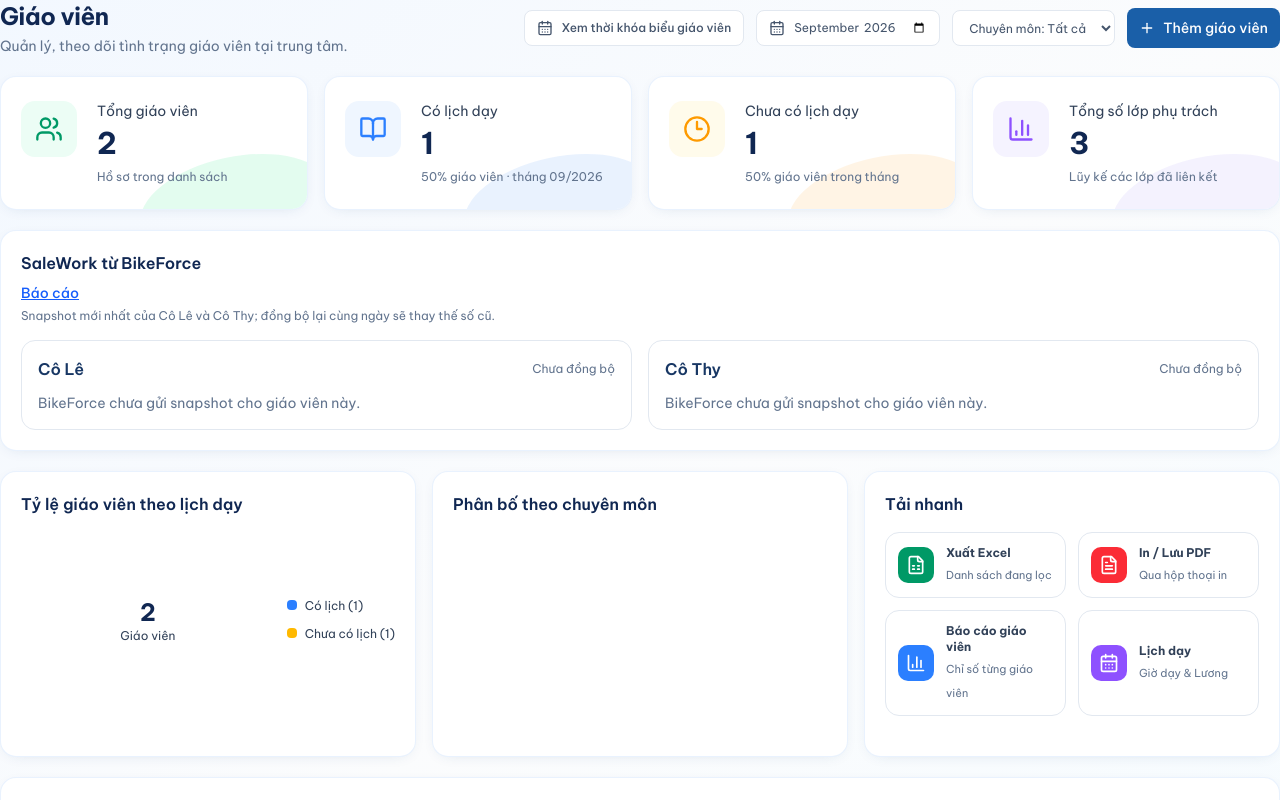
Test: B2C teacher dashboard › matches card specialization and month, and searches within the popup
This screenshot has width=1280, height=800.
Select "Tiếng Anh" in the dropdown named "Lọc chuyên môn" at (1034, 28), box [952, 10, 1115, 46]
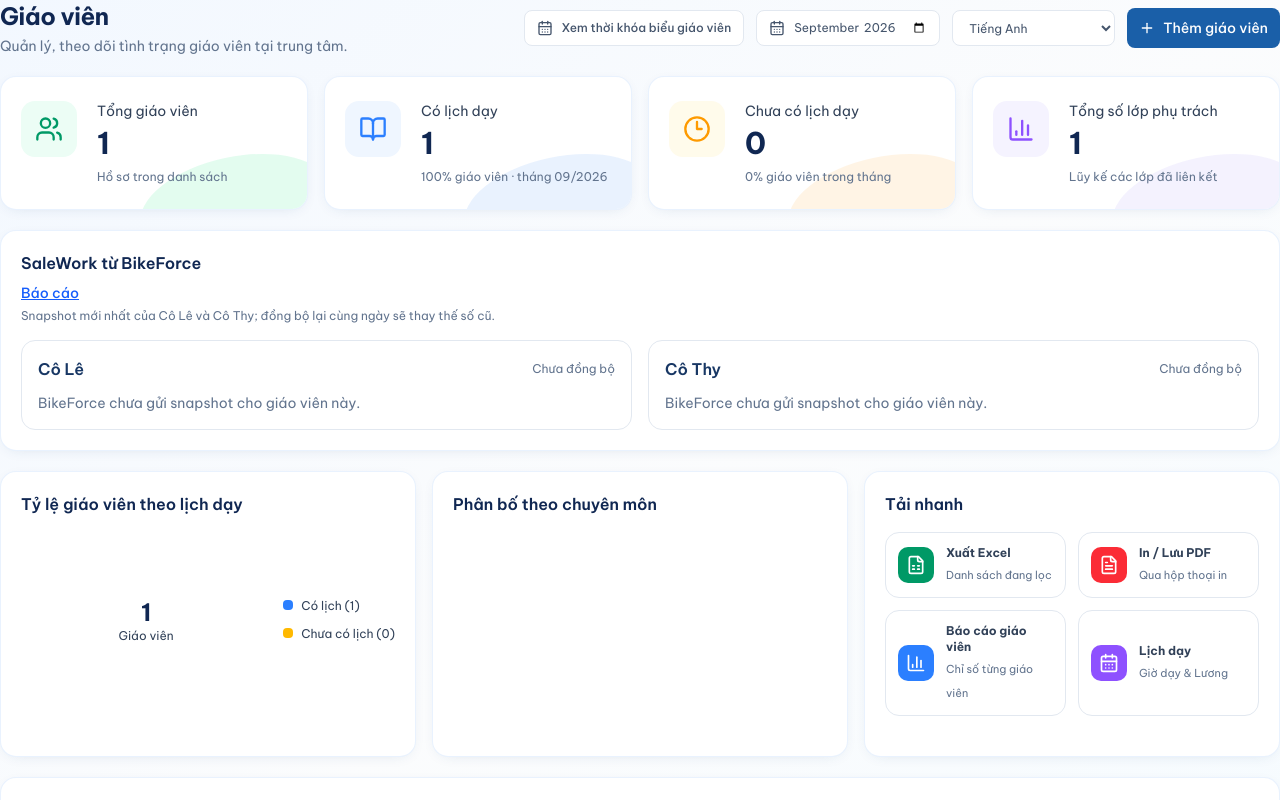
Click the button with aria-label "Xem có lịch dạy" at (478, 143), box [324, 76, 632, 210]
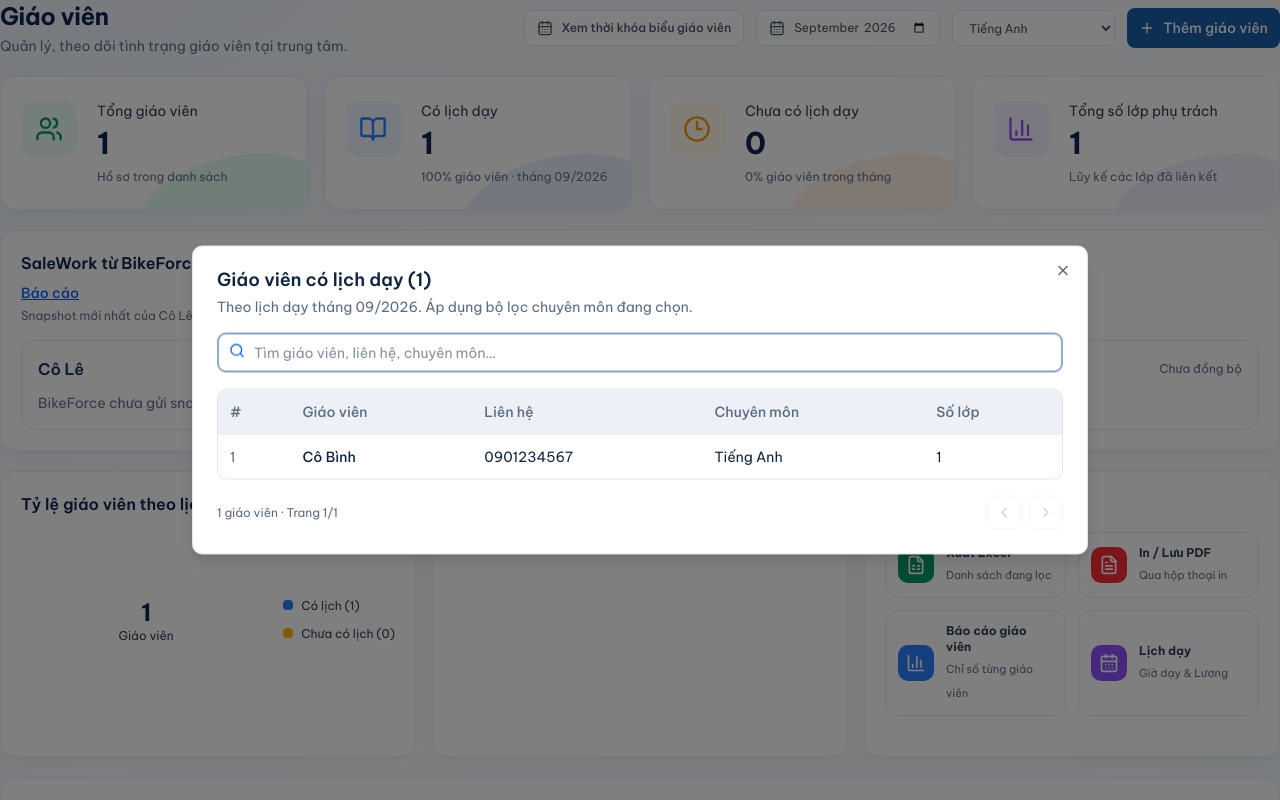
Now the text "Cô Bình" is shown, box [290, 434, 472, 478]
Type "0901234567" into the field named "Tìm giáo viên trong popup" at (640, 352), box [217, 332, 1063, 372]
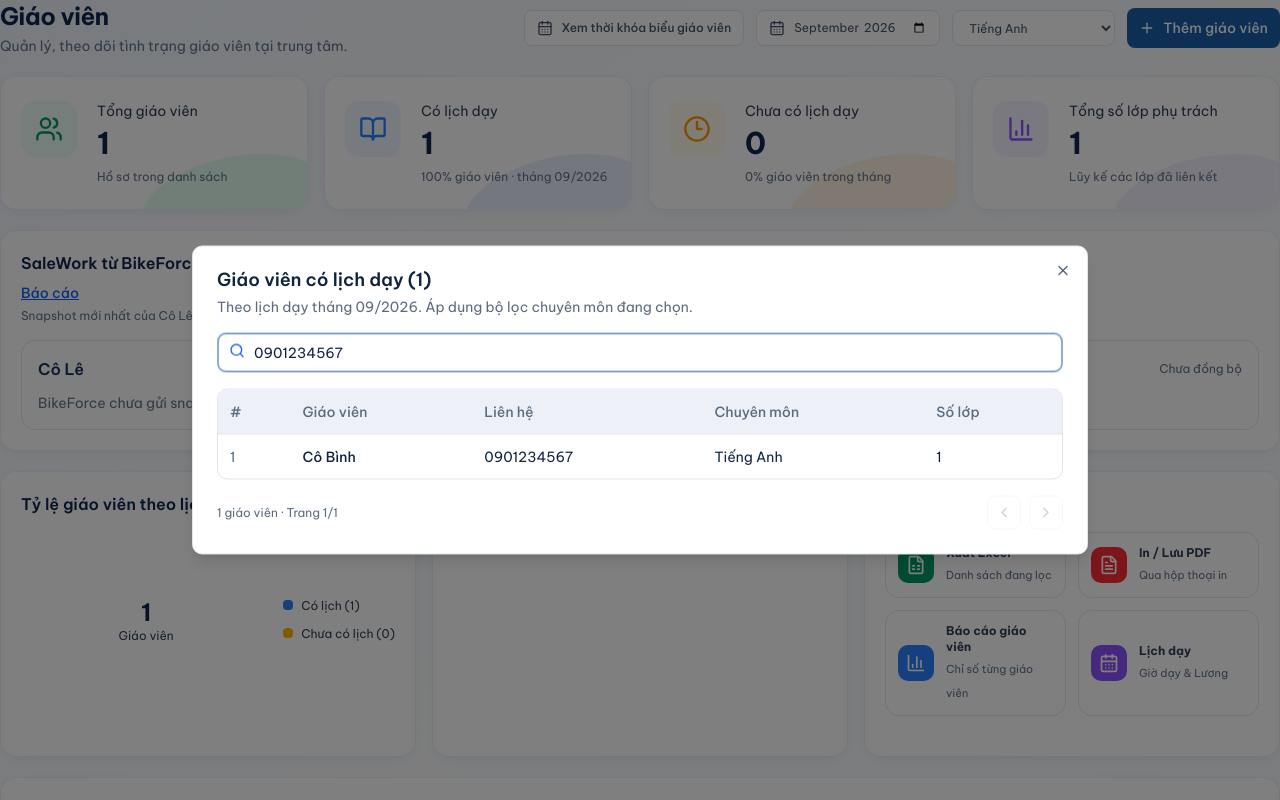
Now the text "Cô Bình" is shown, box [290, 434, 472, 478]
Replace the text in the field named "Tìm giáo viên trong popup" with "không có" at (640, 352), box [217, 332, 1063, 372]
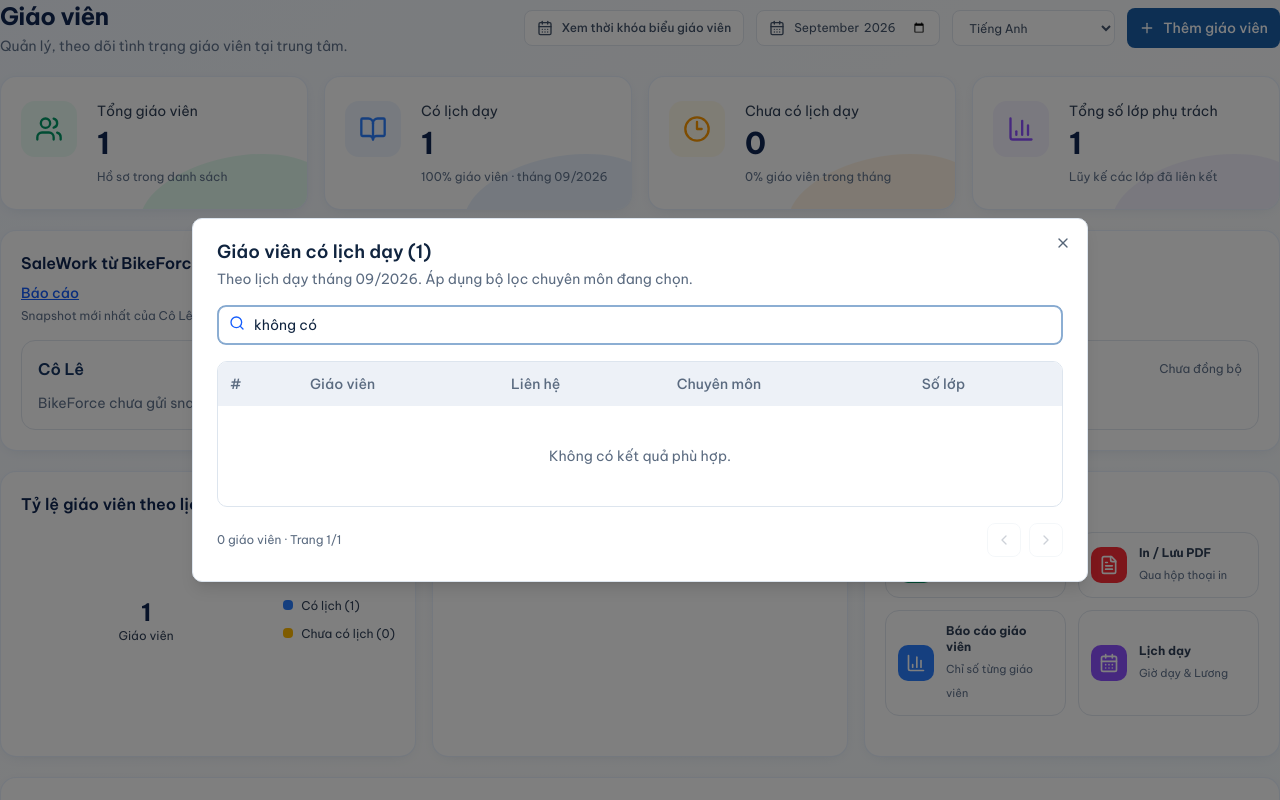
Now the text "Không có kết quả phù hợp." is shown, box [218, 406, 1062, 506]
